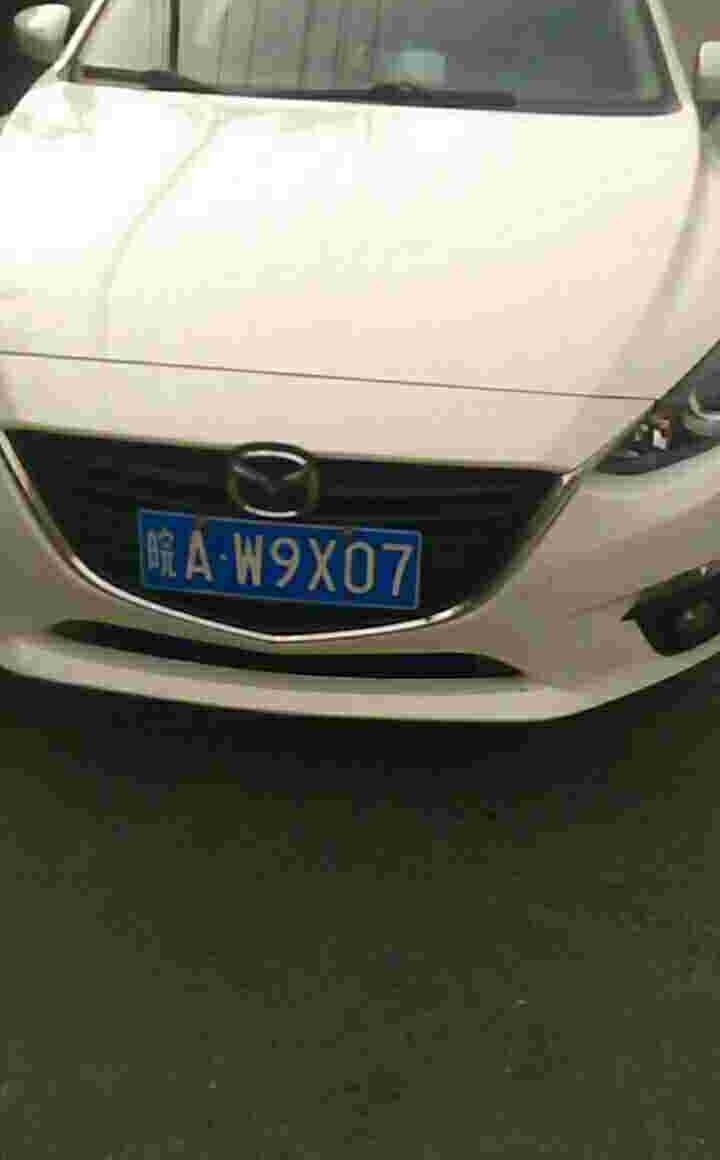license_plate: (120, 503, 435, 616)
